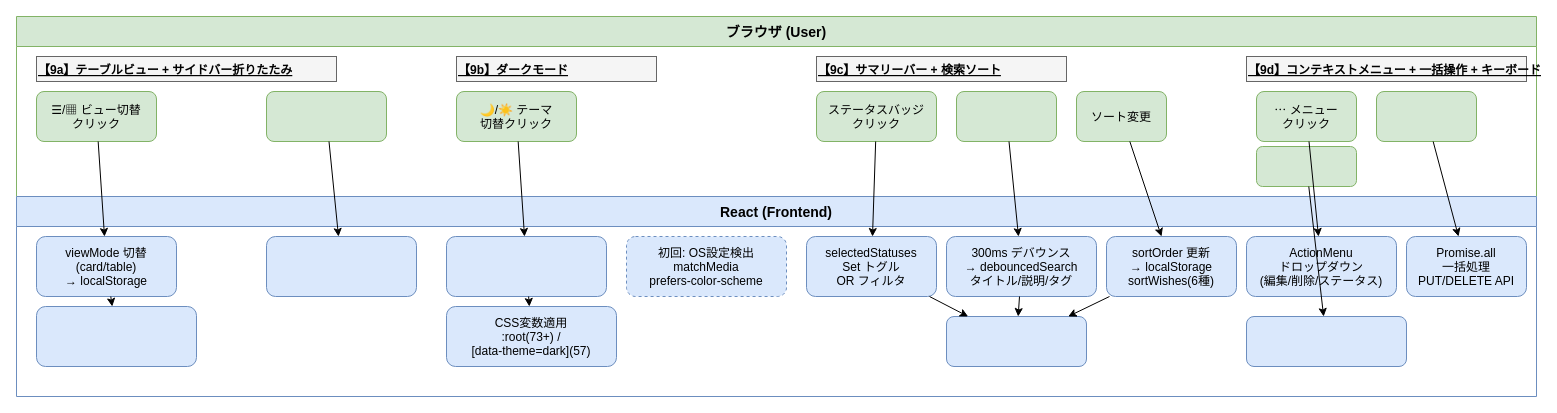
The diagram is 1557 pixels wide and 413 high, and some of its shapes have lost their labels. Here are the shapes that lost their labels. From the top down, the centre of each, then its label:
[326,116]: ◀/▶ トグル クリック
[1006,116]: 検索テキスト 入力
[1426,116]: チェック選択 + 一括操作
[1306,166]: キーボード ショートカット
[341,266]: sidebarCollapsed 切替 → localStorage 250px ↔ 40px
[526,266]: theme state 切替 data-theme 属性設定 → localStorage
[116,336]: テーブル描画 6カラム + ゼブラ + getDueDateClass()
[1016,341]: フィルタ結果で リスト再描画
[1326,341]: useKeyboardShortcuts 3層ガード → アクション実行
